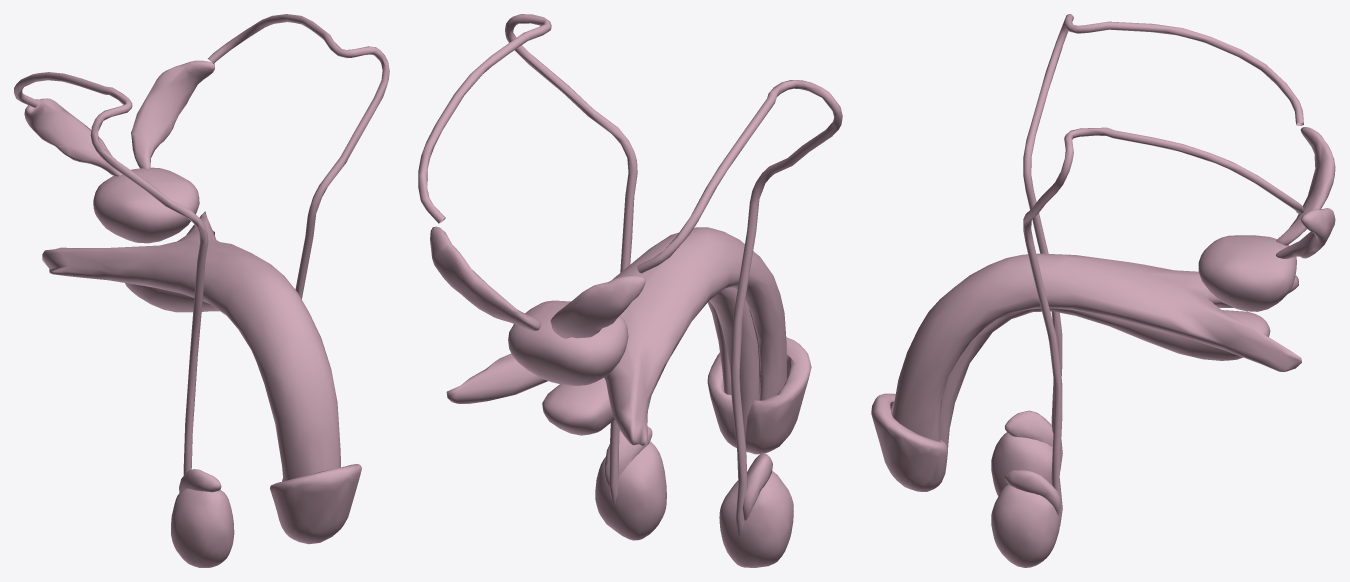
File: reproductive-male.glb
3 views of the same model, side by side, from view 1: azimuth 30°, elevation 25°; view 2: azimuth 150°, elevation 25°; view 3: azimuth 270°, elevation 25° (orthographic). The views are drawn at different scales.
Parts seen in each view (by area): view 1: reproductive-male-10, reproductive-male-8, reproductive-male-5, reproductive-male-9, reproductive-male-0, reproductive-male-7, reproductive-male-4, reproductive-male-6, reproductive-male-11, reproductive-male-2; view 2: reproductive-male-10, reproductive-male-5, reproductive-male-4, reproductive-male-8, reproductive-male-11, reproductive-male-9, reproductive-male-0, reproductive-male-1, reproductive-male-6, reproductive-male-7, reproductive-male-2, reproductive-male-3; view 3: reproductive-male-10, reproductive-male-8, reproductive-male-4, reproductive-male-5, reproductive-male-11, reproductive-male-1, reproductive-male-9, reproductive-male-0, reproductive-male-6, reproductive-male-7, reproductive-male-2, reproductive-male-3.
Part boxes in pixels (x1,y1,x2,y2): reproductive-male-10: [42, 211, 340, 481]; reproductive-male-8: [93, 167, 199, 243]; reproductive-male-5: [14, 72, 208, 475]; reproductive-male-9: [270, 464, 361, 544]; reproductive-male-0: [171, 488, 234, 567]; reproductive-male-7: [131, 60, 214, 168]; reproductive-male-4: [208, 14, 389, 299]; reproductive-male-6: [24, 98, 122, 176]; reproductive-male-11: [125, 283, 219, 312]; reproductive-male-2: [179, 469, 221, 492]; reproductive-male-10: [446, 227, 786, 445]; reproductive-male-5: [637, 80, 842, 535]; reproductive-male-4: [418, 14, 637, 505]; reproductive-male-8: [508, 300, 628, 385]; reproductive-male-11: [542, 287, 759, 442]; reproductive-male-9: [707, 337, 811, 454]; reproductive-male-0: [719, 471, 793, 567]; reproductive-male-1: [595, 441, 666, 540]; reproductive-male-6: [550, 275, 645, 338]; reproductive-male-7: [430, 226, 540, 330]; reproductive-male-2: [742, 453, 772, 520]; reproductive-male-3: [604, 426, 652, 486]; reproductive-male-10: [892, 253, 1301, 441]; reproductive-male-8: [1198, 235, 1296, 311]; reproductive-male-4: [1023, 127, 1303, 526]; reproductive-male-5: [1023, 14, 1303, 471]; reproductive-male-11: [939, 308, 1270, 450]; reproductive-male-1: [991, 484, 1059, 567]; reproductive-male-9: [871, 393, 947, 491]; reproductive-male-0: [991, 432, 1060, 496]; reproductive-male-6: [1276, 127, 1335, 245]; reproductive-male-7: [1276, 208, 1335, 258]; reproductive-male-2: [1004, 410, 1053, 447]; reproductive-male-3: [1004, 470, 1060, 514].
Bounding box in the file's own units: 0.1112 × 0.1652 × 0.1496.
